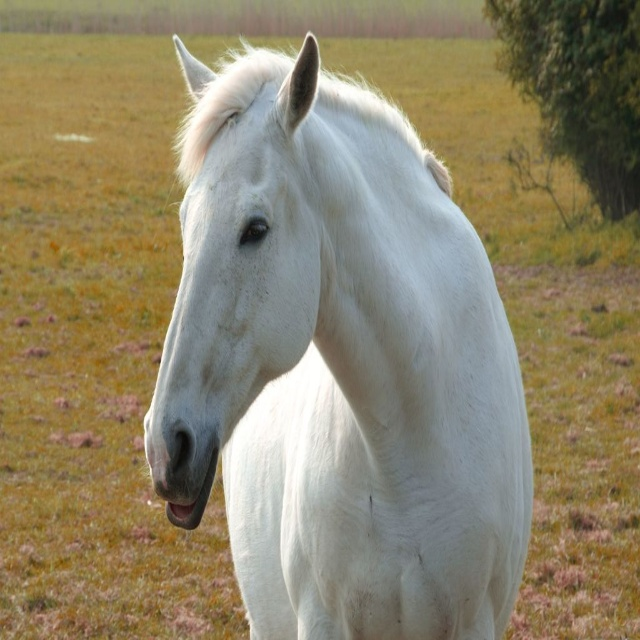Horse: (136, 28, 534, 639)
